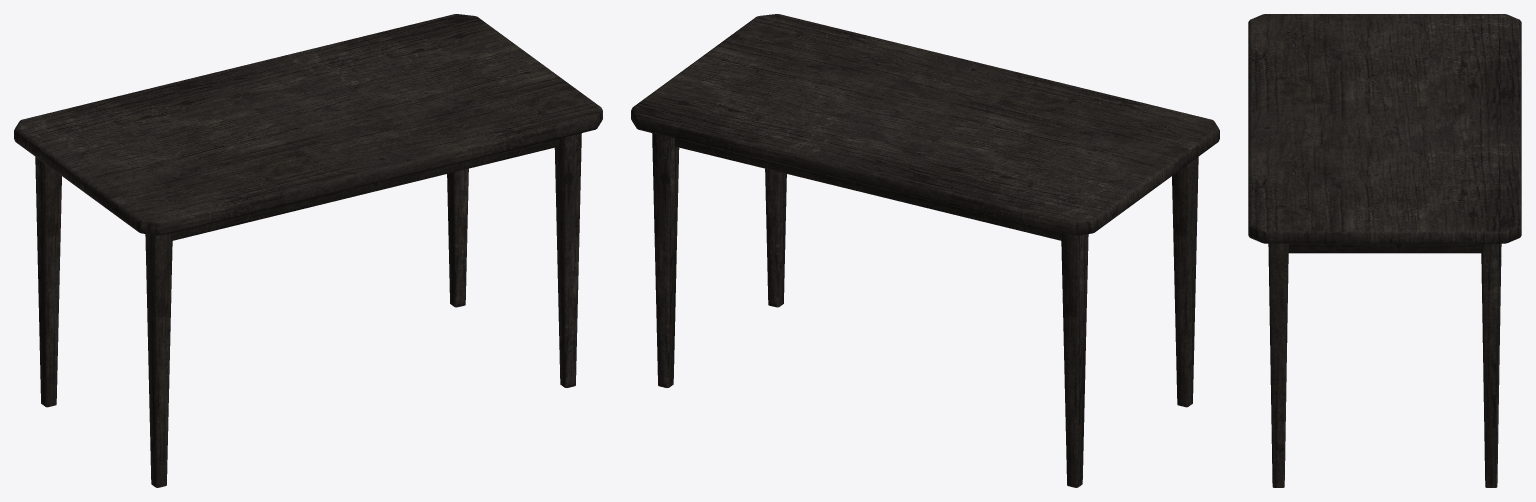
File: table_large_1.obj
The picture shows the model from 3 angles, left to right: view 1: azimuth 30°, elevation 25°; view 2: azimuth 150°, elevation 25°; view 3: azimuth 270°, elevation 25°; orthographic projection. The views are drawn at different scales.
Visible parts, largest first — view 1: table_large_1; view 2: table_large_1; view 3: table_large_1.
Boxes of the visible parts, <box> form: table_large_1: <box>14,14,602,487</box>; table_large_1: <box>631,14,1219,487</box>; table_large_1: <box>1248,14,1521,487</box>.
Size of the model in its own units: 1.7 by 0.97 by 0.9.
